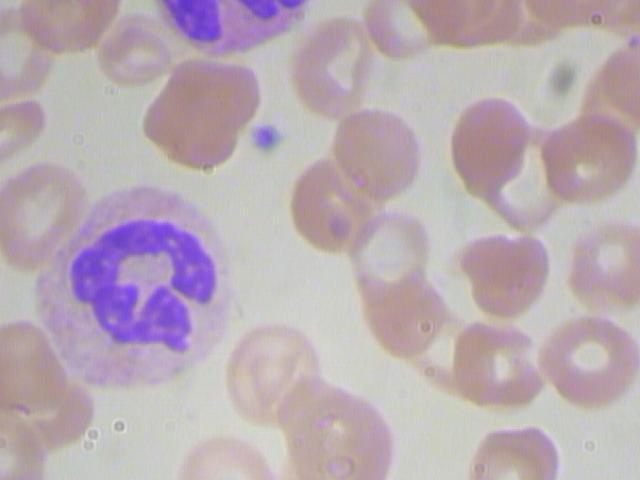Platelets: (245, 121, 286, 158)
Red Blood Cells: (138, 54, 262, 177), (212, 318, 325, 433), (531, 309, 639, 416), (1, 158, 99, 273), (276, 14, 380, 122), (290, 154, 392, 258), (445, 317, 547, 415), (539, 107, 639, 202), (463, 228, 556, 323), (444, 96, 534, 189), (331, 110, 425, 199), (559, 212, 639, 312), (465, 422, 566, 479), (101, 16, 180, 87)
White Blood Cells: (17, 184, 242, 398)
